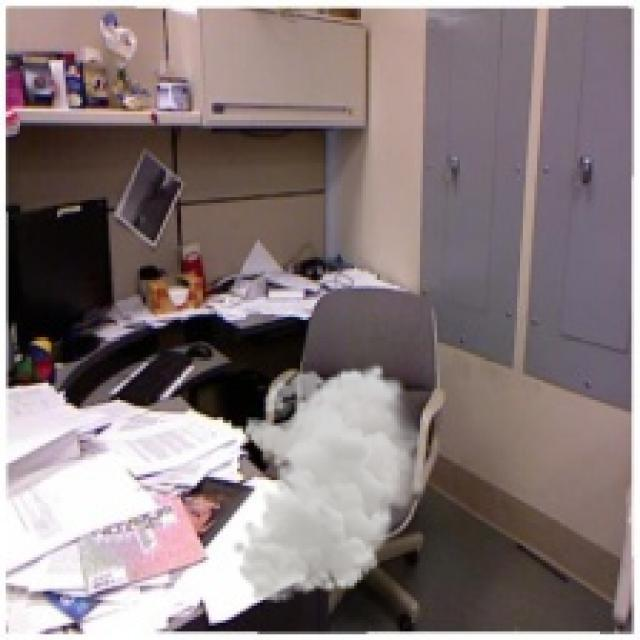Smoke: (232, 363, 432, 603)
